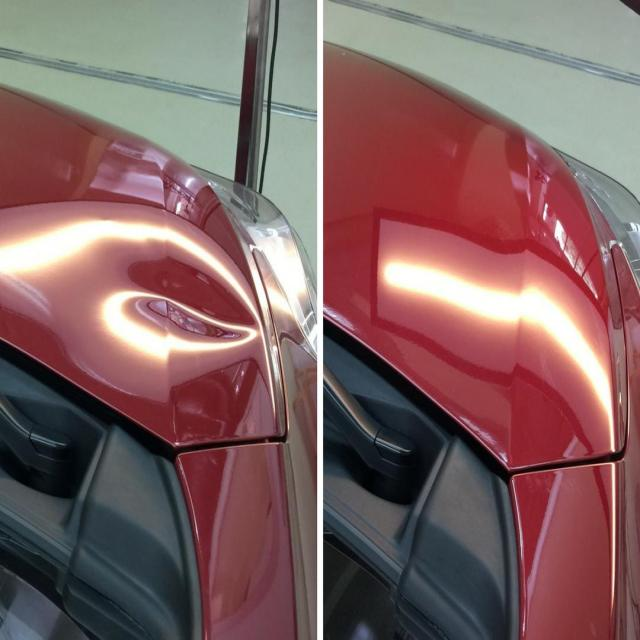dent: (0, 196, 286, 445)
